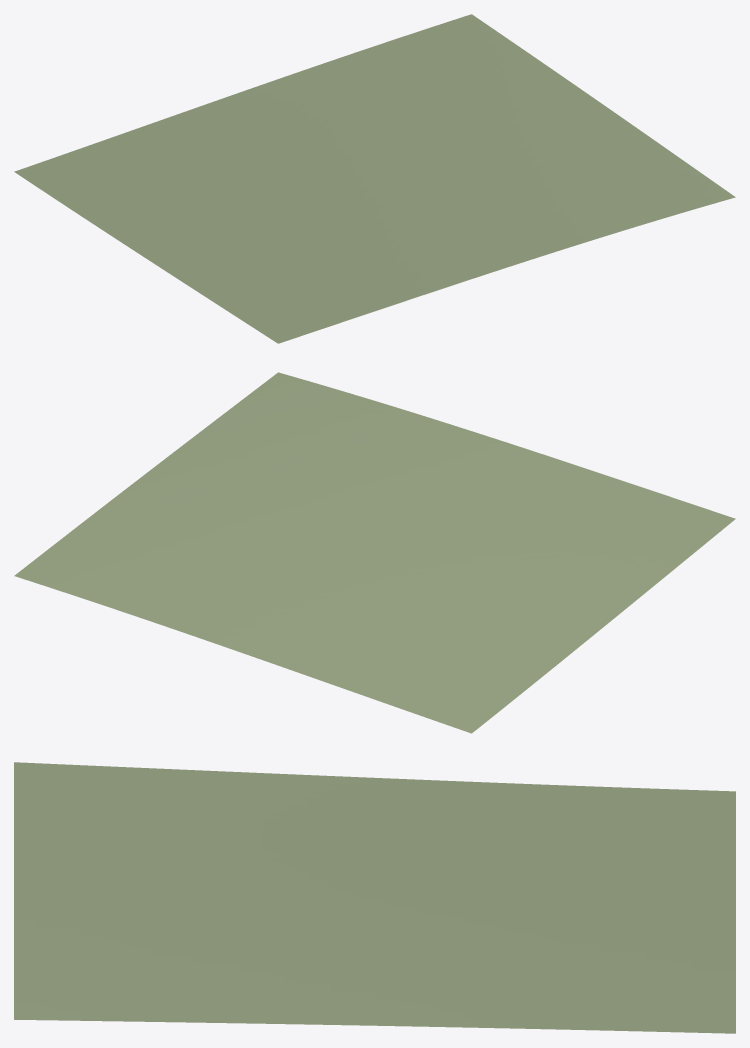
File: desert-11-24.glb
3 renders of one model, top to bottom at view 1: azimuth 30°, elevation 25°; view 2: azimuth 150°, elevation 25°; view 3: azimuth 270°, elevation 25°, orthographic. The views are drawn at different scales.
Parts seen in each view (by area): view 1: desert-11-24; view 2: desert-11-24; view 3: desert-11-24.
Part boxes in pixels (<box>): desert-11-24: <box>14,14,735,343</box>; desert-11-24: <box>14,372,735,733</box>; desert-11-24: <box>14,762,735,1033</box>.
Bounding box in the file's own units: 512 × 60.01 × 512.
